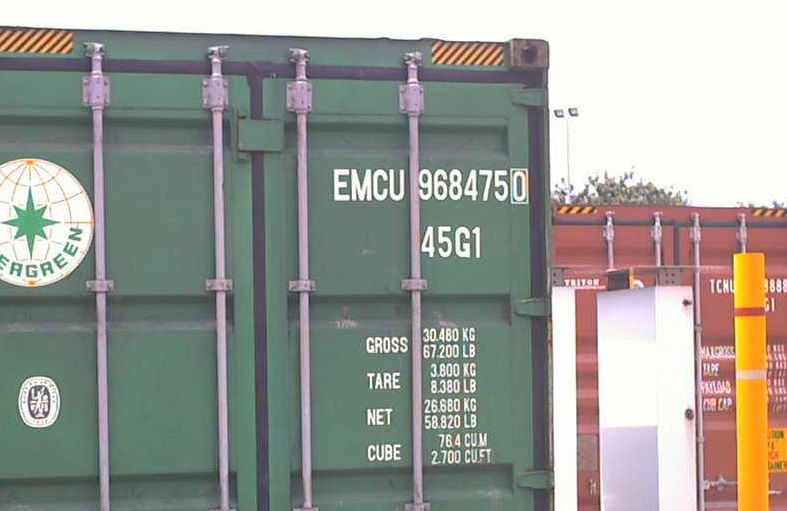container_door: (1, 19, 556, 511)
